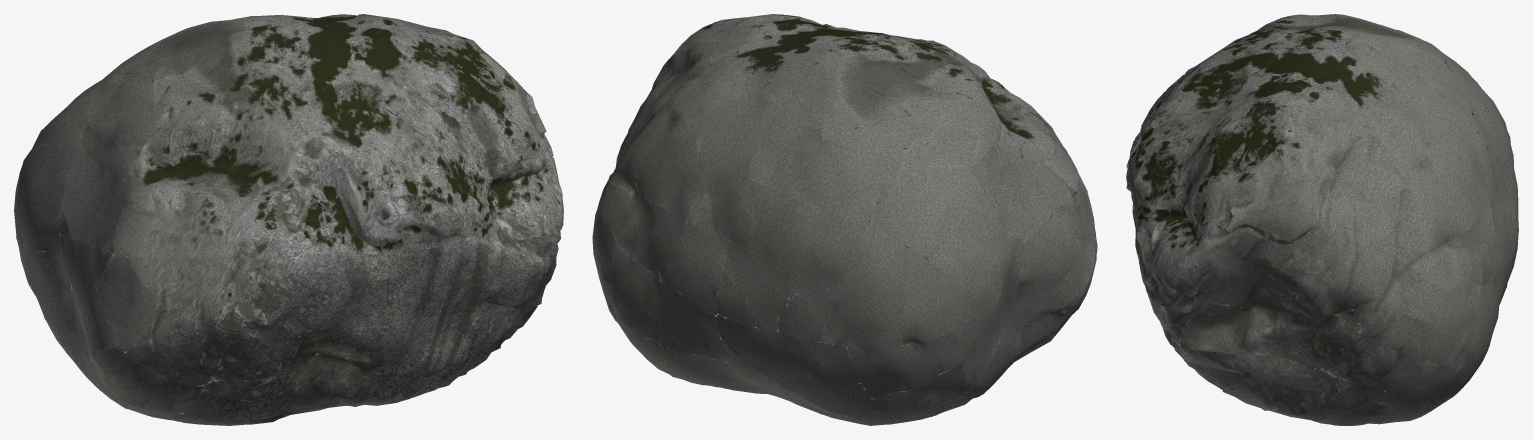
Rendered from boulder-mossy.glb.
The picture shows the model from 3 angles, left to right: view 1: azimuth 30°, elevation 25°; view 2: azimuth 150°, elevation 25°; view 3: azimuth 270°, elevation 25°; orthographic projection. The views are drawn at different scales.
Parts seen in each view (by area): view 1: mesh_node; view 2: mesh_node; view 3: mesh_node.
Boxes of the visible parts, box(x1,y1,x2,y2) form: mesh_node: box(14, 14, 563, 425); mesh_node: box(592, 14, 1097, 425); mesh_node: box(1126, 14, 1518, 425).
Size of the model in its own units: 2.53 by 2 by 2.15.
1 material, 1 textured.
